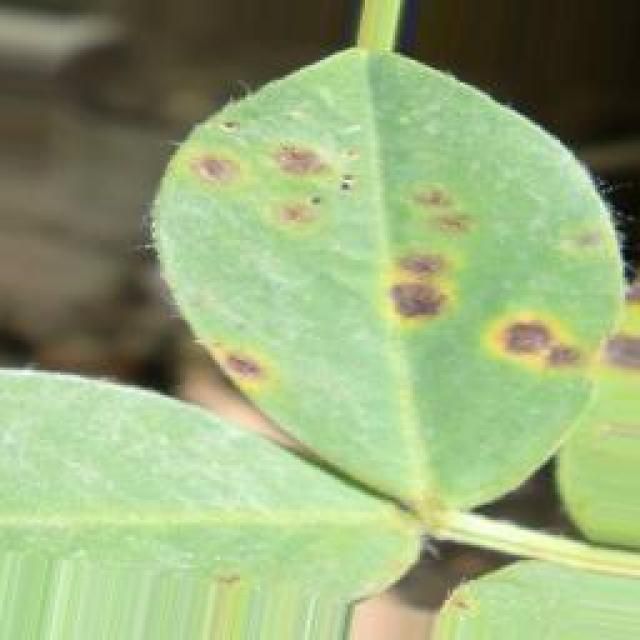Sigatoka: (482, 295, 591, 384), (201, 306, 294, 402), (398, 160, 488, 255), (387, 238, 467, 332), (261, 135, 357, 205), (263, 194, 336, 242), (564, 206, 623, 262), (187, 142, 248, 196), (591, 325, 640, 385)
